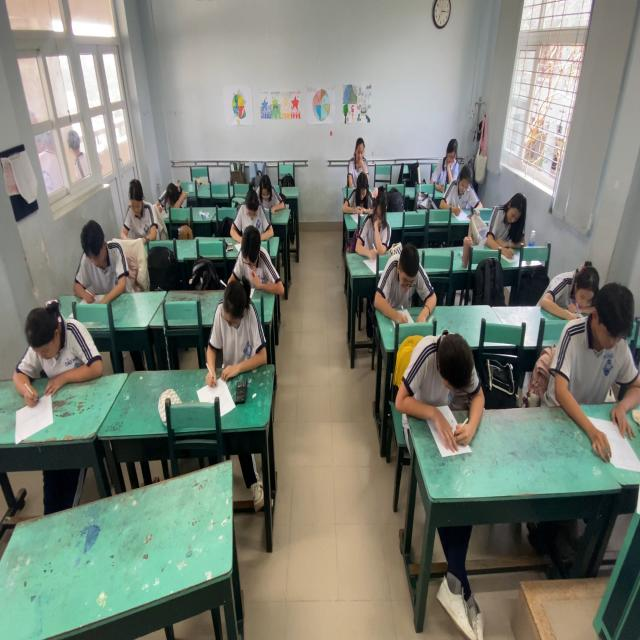not_cheating: (548, 290, 640, 404), (416, 329, 494, 413), (11, 298, 87, 382), (202, 280, 266, 378), (74, 218, 125, 298), (388, 236, 435, 315), (542, 259, 612, 310), (489, 190, 534, 254), (227, 181, 277, 236), (235, 229, 277, 294), (124, 178, 155, 239), (365, 188, 396, 243), (433, 134, 470, 176), (346, 160, 376, 211), (447, 166, 480, 203), (157, 181, 184, 215), (258, 174, 278, 215), (350, 139, 370, 170)
